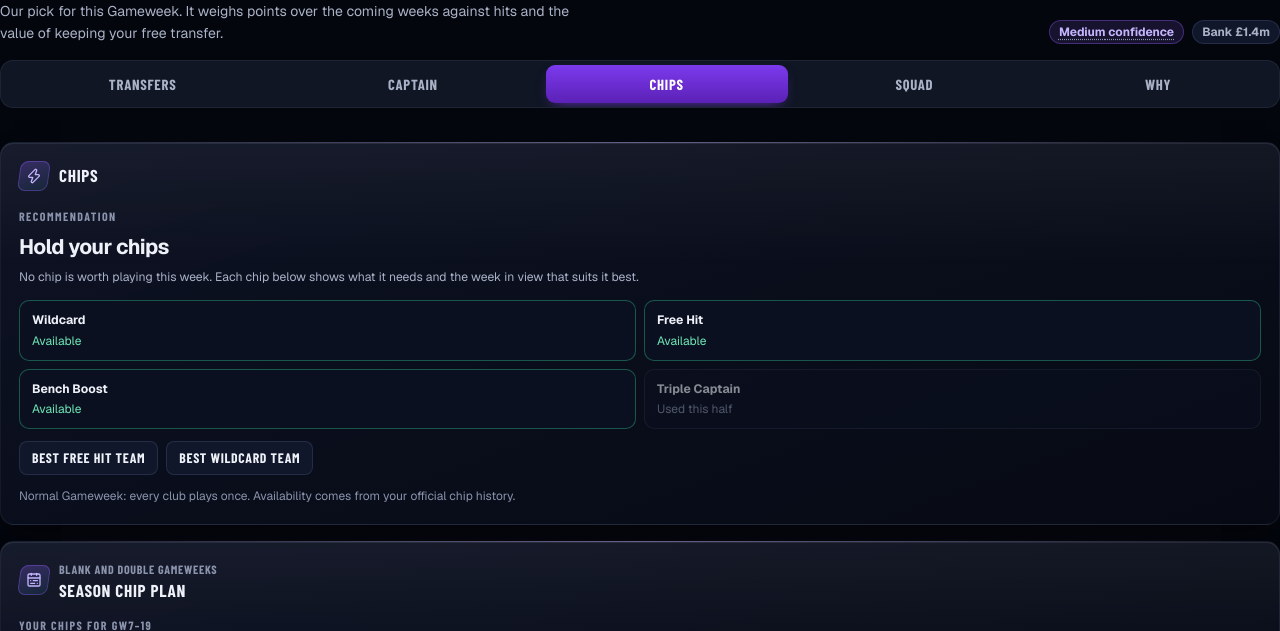
Test case: the plan opens on Transfers and an old #chips link opens the Chips section
Click the tab "Transfers": (143, 84) [5, 65, 280, 103]
(page scrolled)
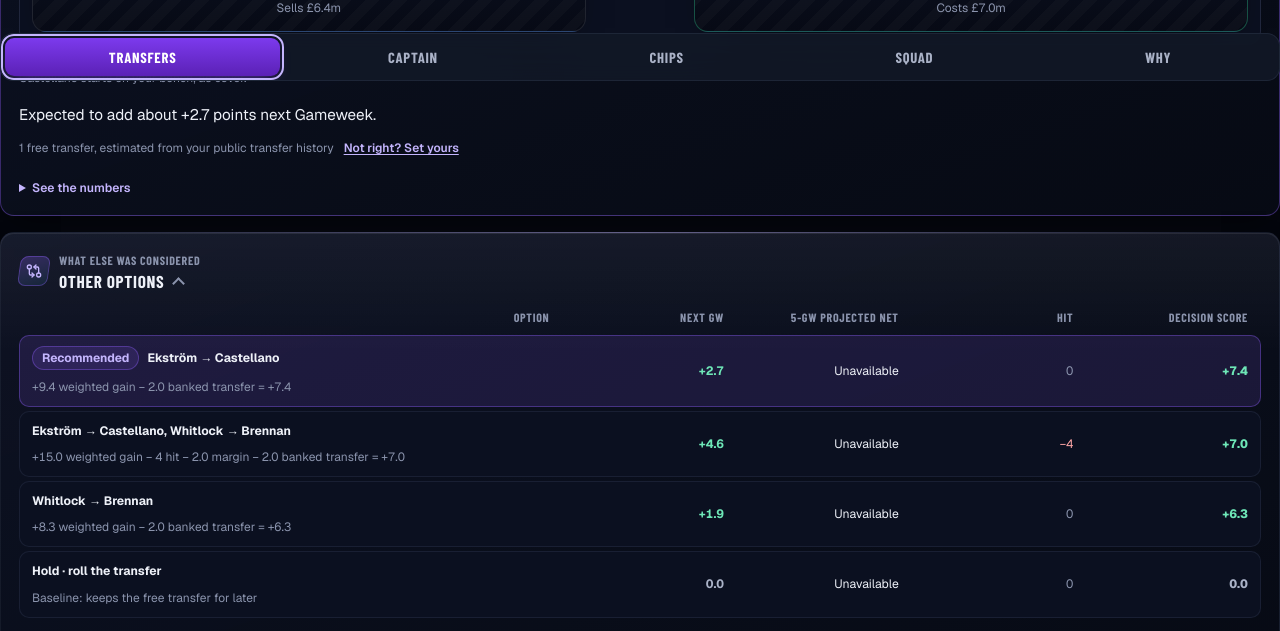
Check: the heading "Other options" is shown, box [59, 272, 200, 291]
